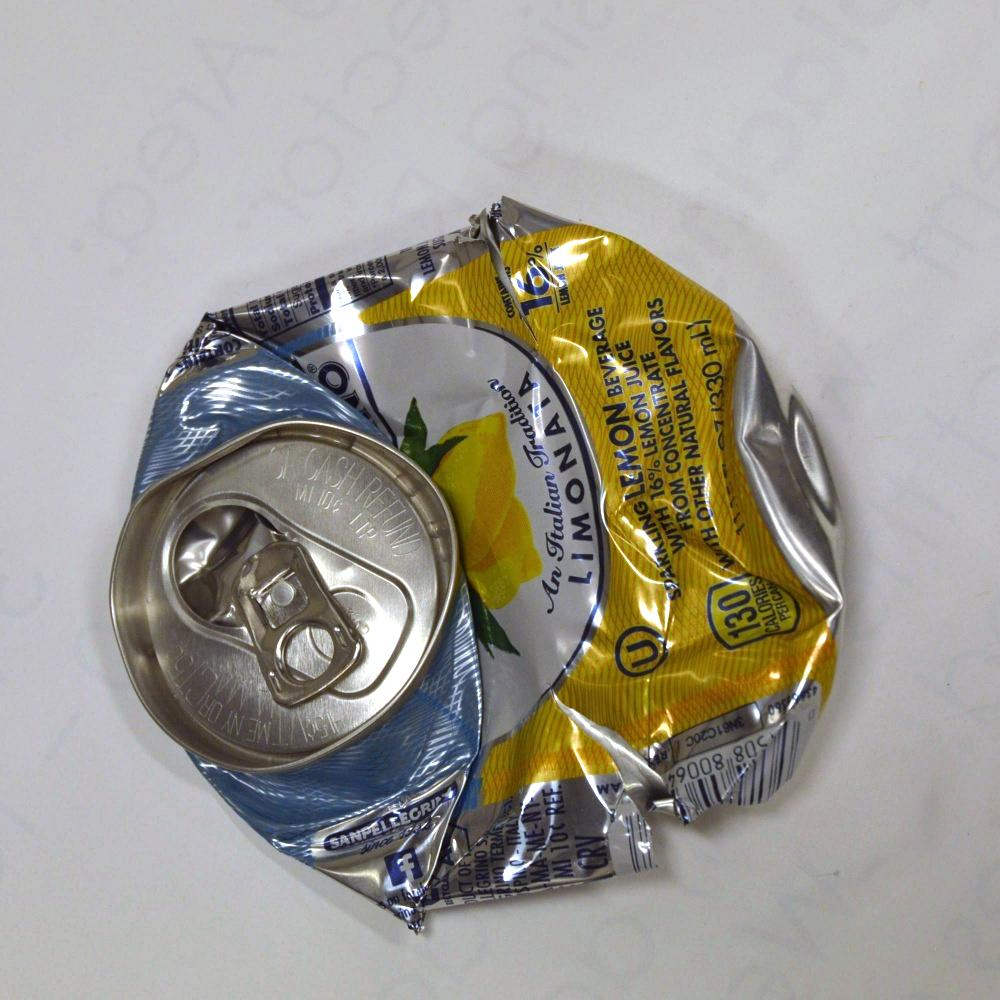Metal: (70, 200, 870, 930)
